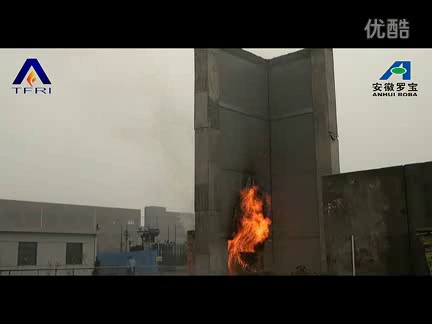fire: (220, 178, 283, 278)
